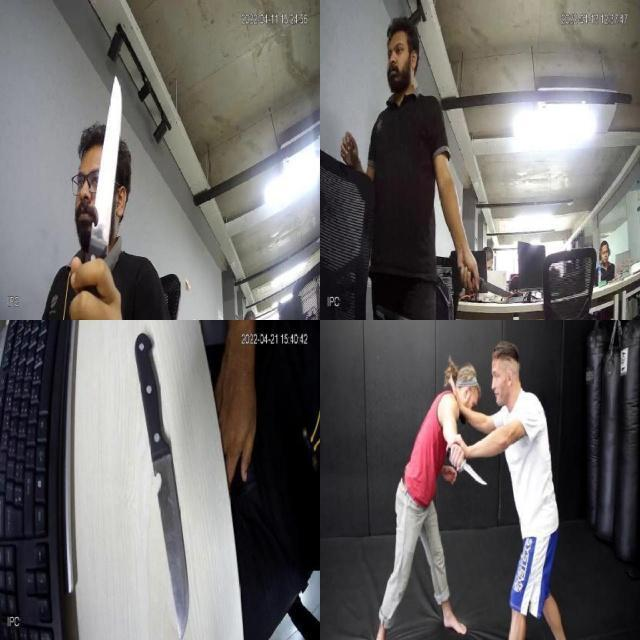-: (134, 334, 202, 635), (88, 77, 125, 267), (445, 445, 491, 491), (478, 273, 514, 298)
